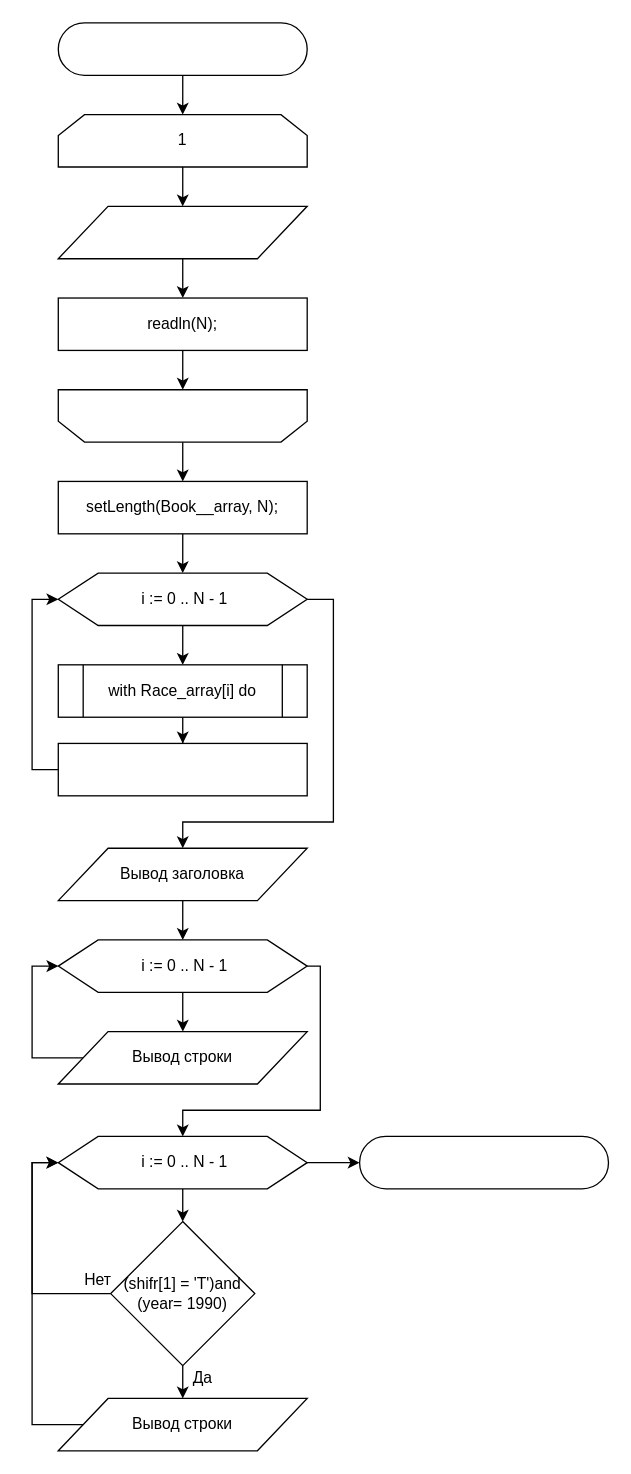
Image size: 631x1474. Some labels were removed from this diagram. Here are the shapes that lost their labels. From the top down, the centre of each, then its label:
point 182,48: Начало
point 182,232: Введите кол-во книг
point 182,415: 1 N > 9
point 182,769: Заполнение данных
point 483,1162: Конец
